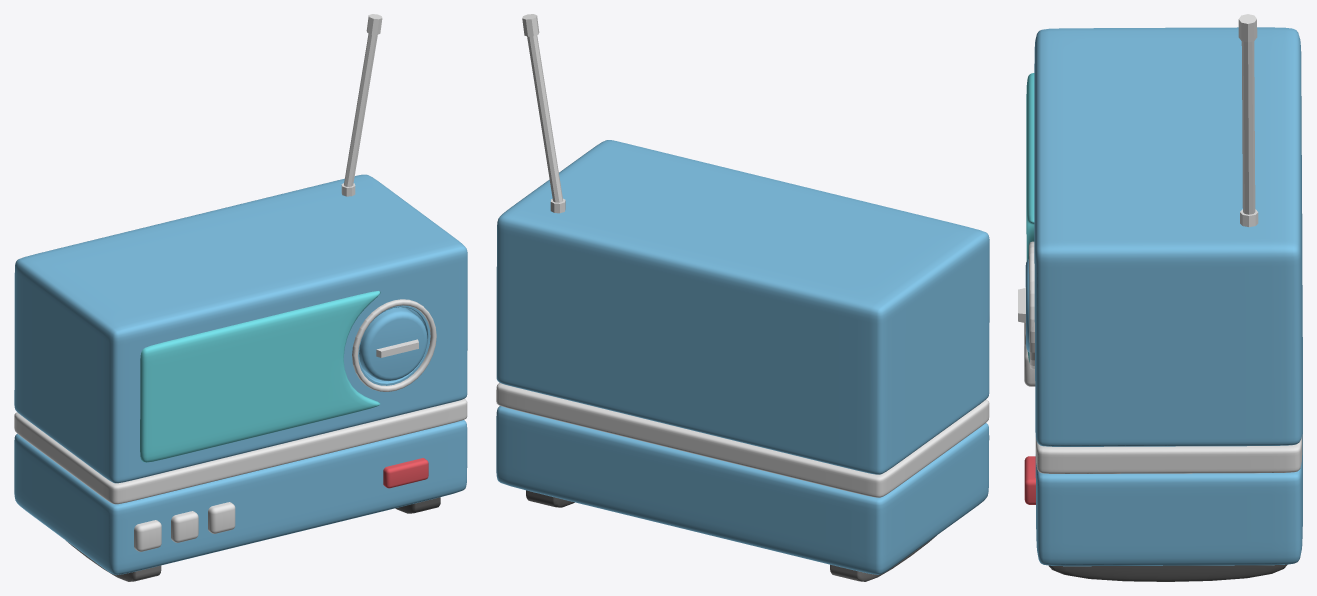
Rendered from low-poly_radio.glb.
3 renders of one model, left to right at view 1: azimuth 30°, elevation 25°; view 2: azimuth 150°, elevation 25°; view 3: azimuth 270°, elevation 25°, orthographic. The views are drawn at different scales.
Parts seen in each view (by area): view 1: Cube_2, Cube.007_11, Cube.001_3, Cube.006_10, Cylinder_8, Cylinder.001_9, Cube.010_14, Cube.005_7, Cube.002_4, Cube.003_5, Cube.004_6; view 2: Cube_2, Cube.007_11, Cube.006_10, Cylinder.001_9; view 3: Cube_2, Cube.007_11, Cube.006_10, Cube.008_12, Cylinder.001_9, Cube.001_3, Cube.010_14, Cylinder_8, Cube.005_7.
Part boxes in pixels (<box>): Cube_2: <box>14,174,467,483</box>; Cube.007_11: <box>14,420,467,575</box>; Cube.001_3: <box>140,291,380,462</box>; Cube.006_10: <box>14,398,467,504</box>; Cylinder_8: <box>359,307,427,381</box>; Cylinder.001_9: <box>341,14,382,196</box>; Cube.010_14: <box>352,299,436,391</box>; Cube.005_7: <box>383,458,428,488</box>; Cube.002_4: <box>134,520,161,551</box>; Cube.003_5: <box>171,511,198,542</box>; Cube.004_6: <box>208,502,235,533</box>; Cube_2: <box>496,140,989,474</box>; Cube.007_11: <box>496,406,989,574</box>; Cube.006_10: <box>496,382,989,497</box>; Cylinder.001_9: <box>522,14,565,213</box>; Cube_2: <box>1034,27,1302,446</box>; Cube.007_11: <box>1035,285,1302,566</box>; Cube.006_10: <box>1035,434,1302,473</box>; Cube.008_12: <box>1049,564,1287,581</box>; Cylinder.001_9: <box>1238,14,1258,227</box>; Cube.001_3: <box>1026,73,1034,362</box>; Cube.010_14: <box>1029,241,1034,369</box>; Cylinder_8: <box>1018,259,1029,352</box>; Cube.005_7: <box>1024,456,1035,504</box>.
Size of the model in its own units: 2.87 by 3.39 by 1.53.
